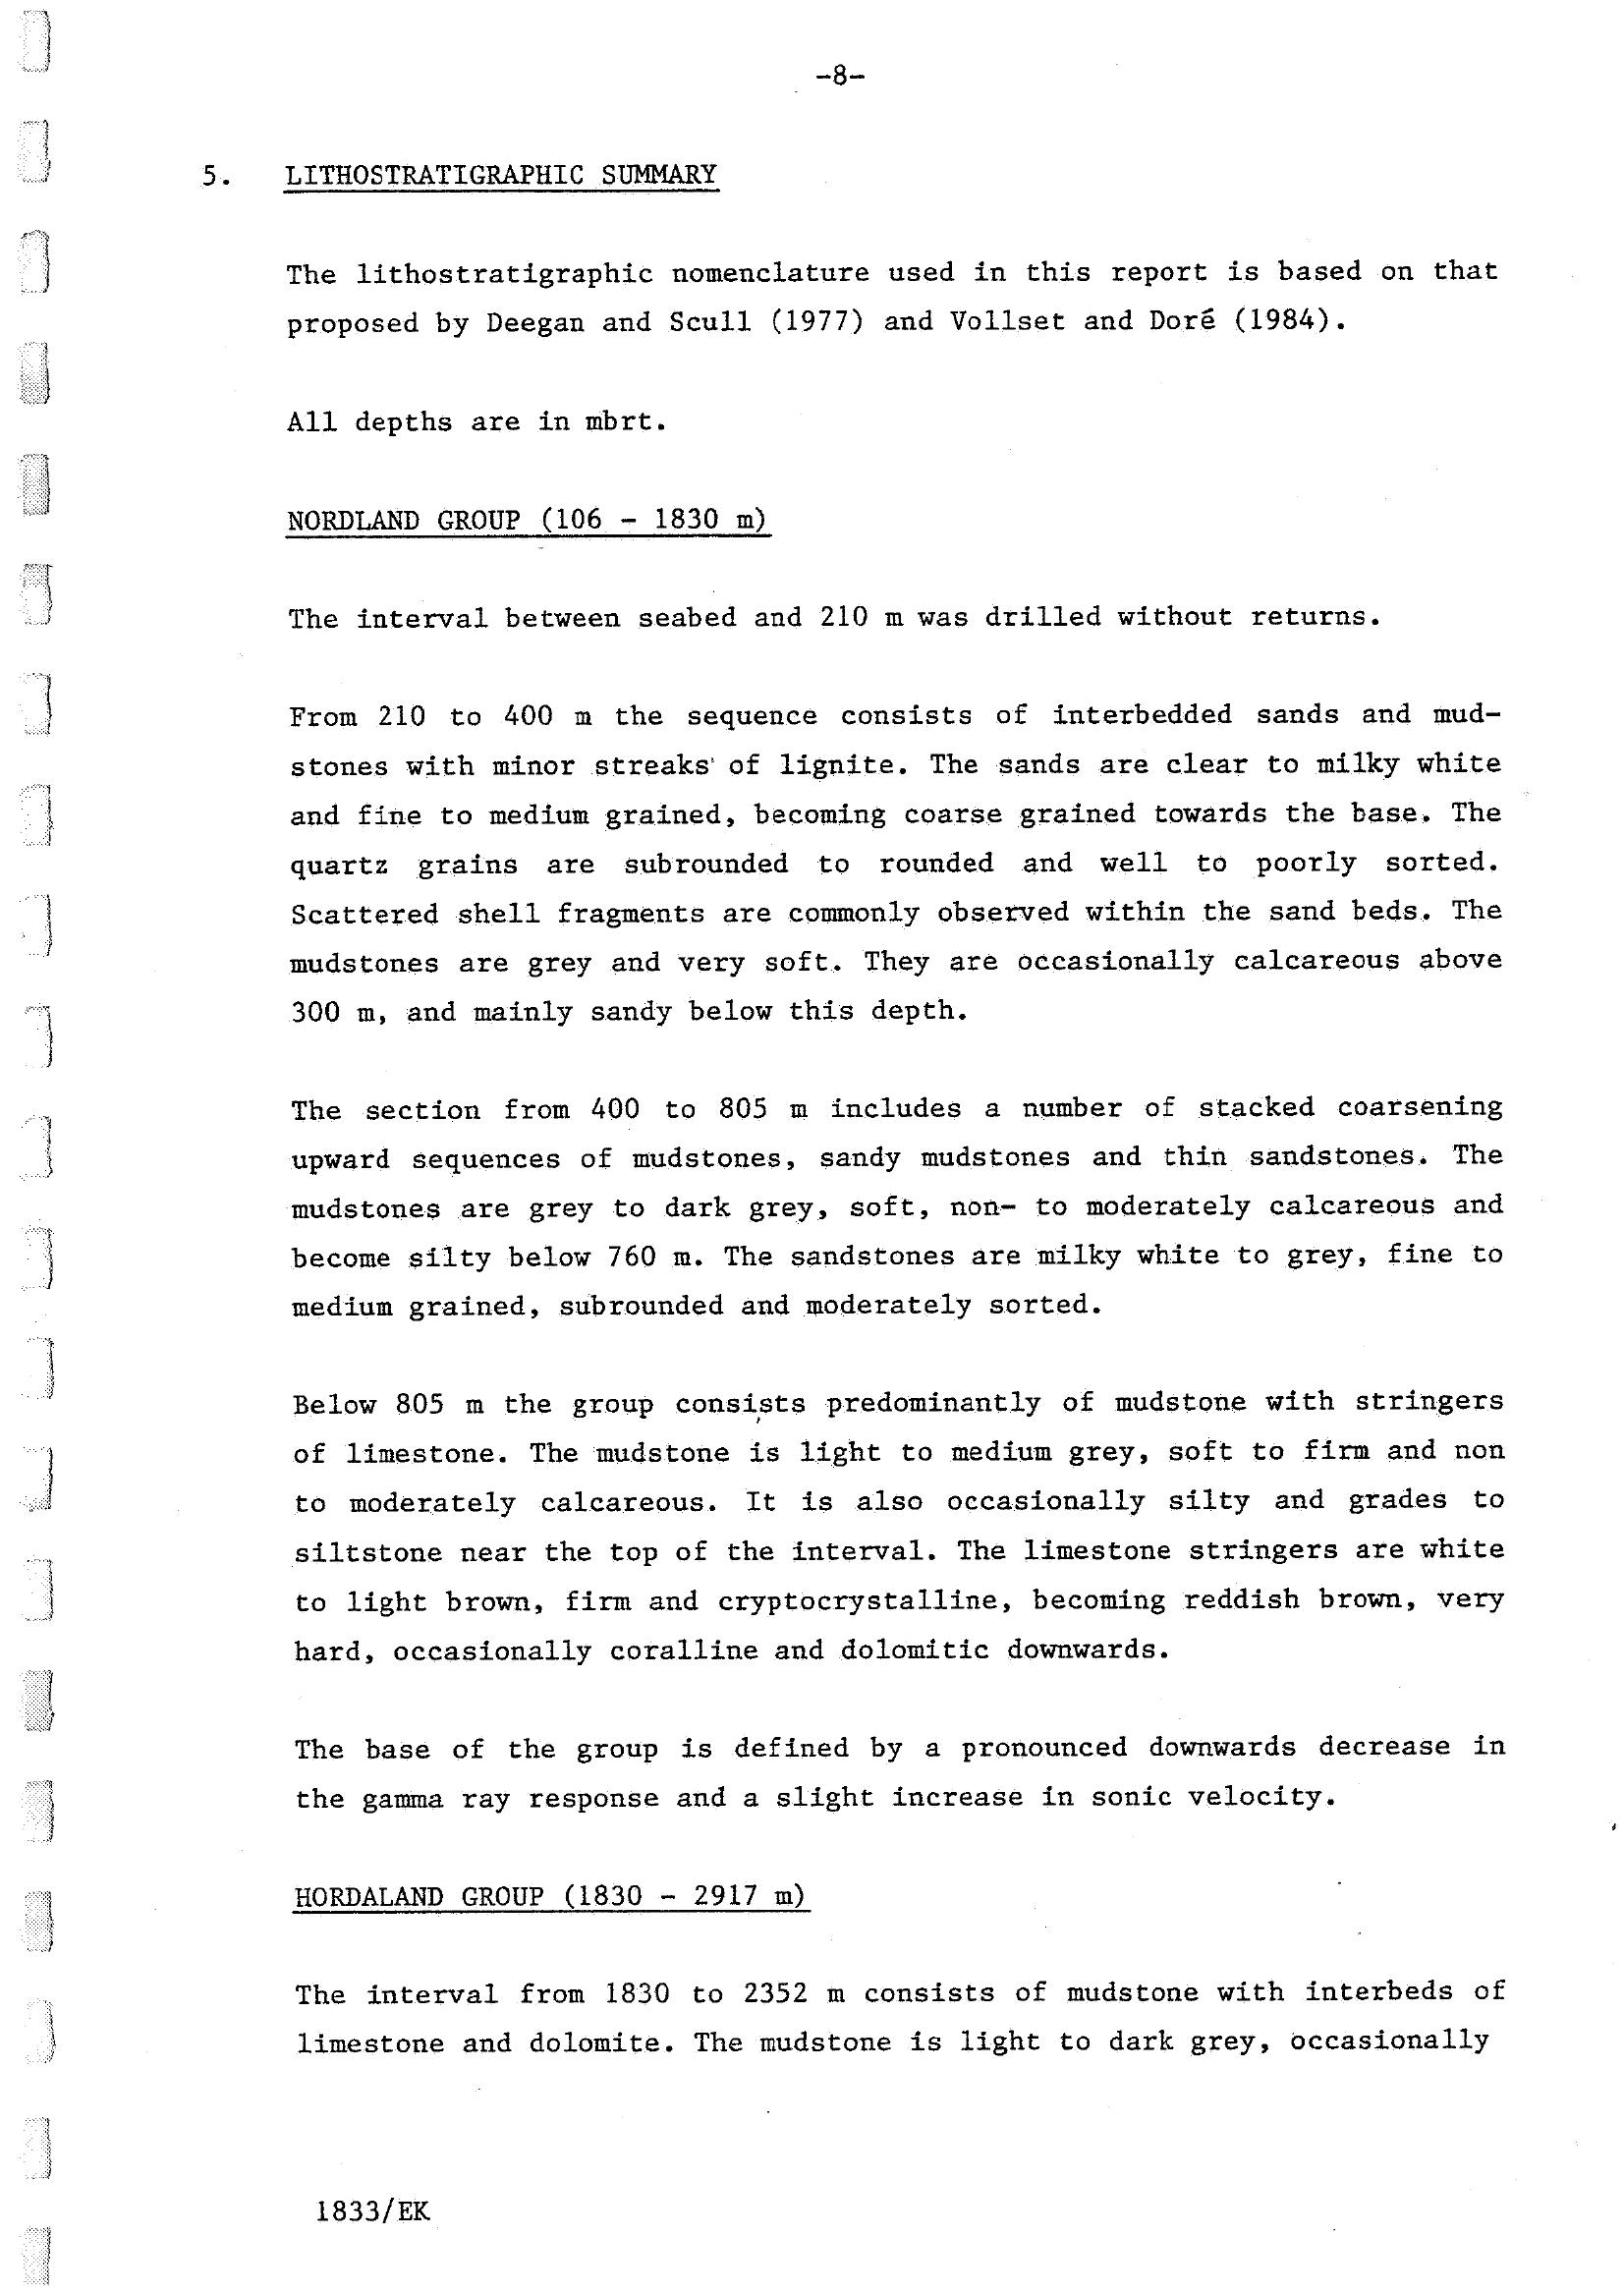text: (163, 114, 1561, 2130)
